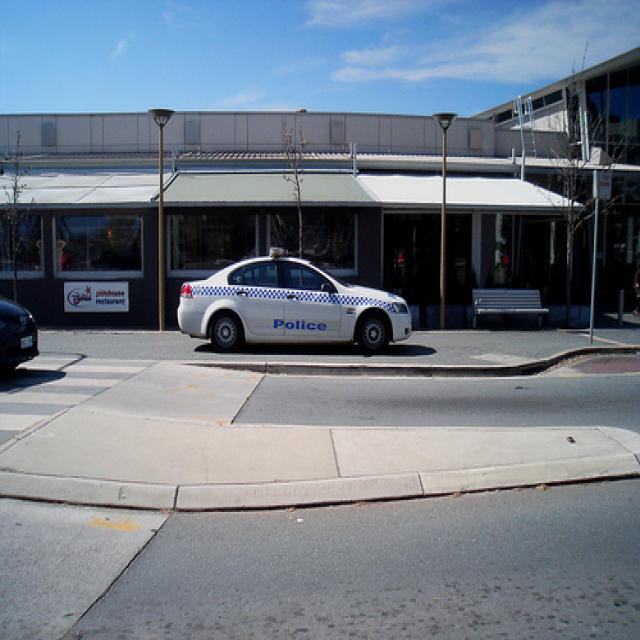Car: (172, 251, 416, 357)
